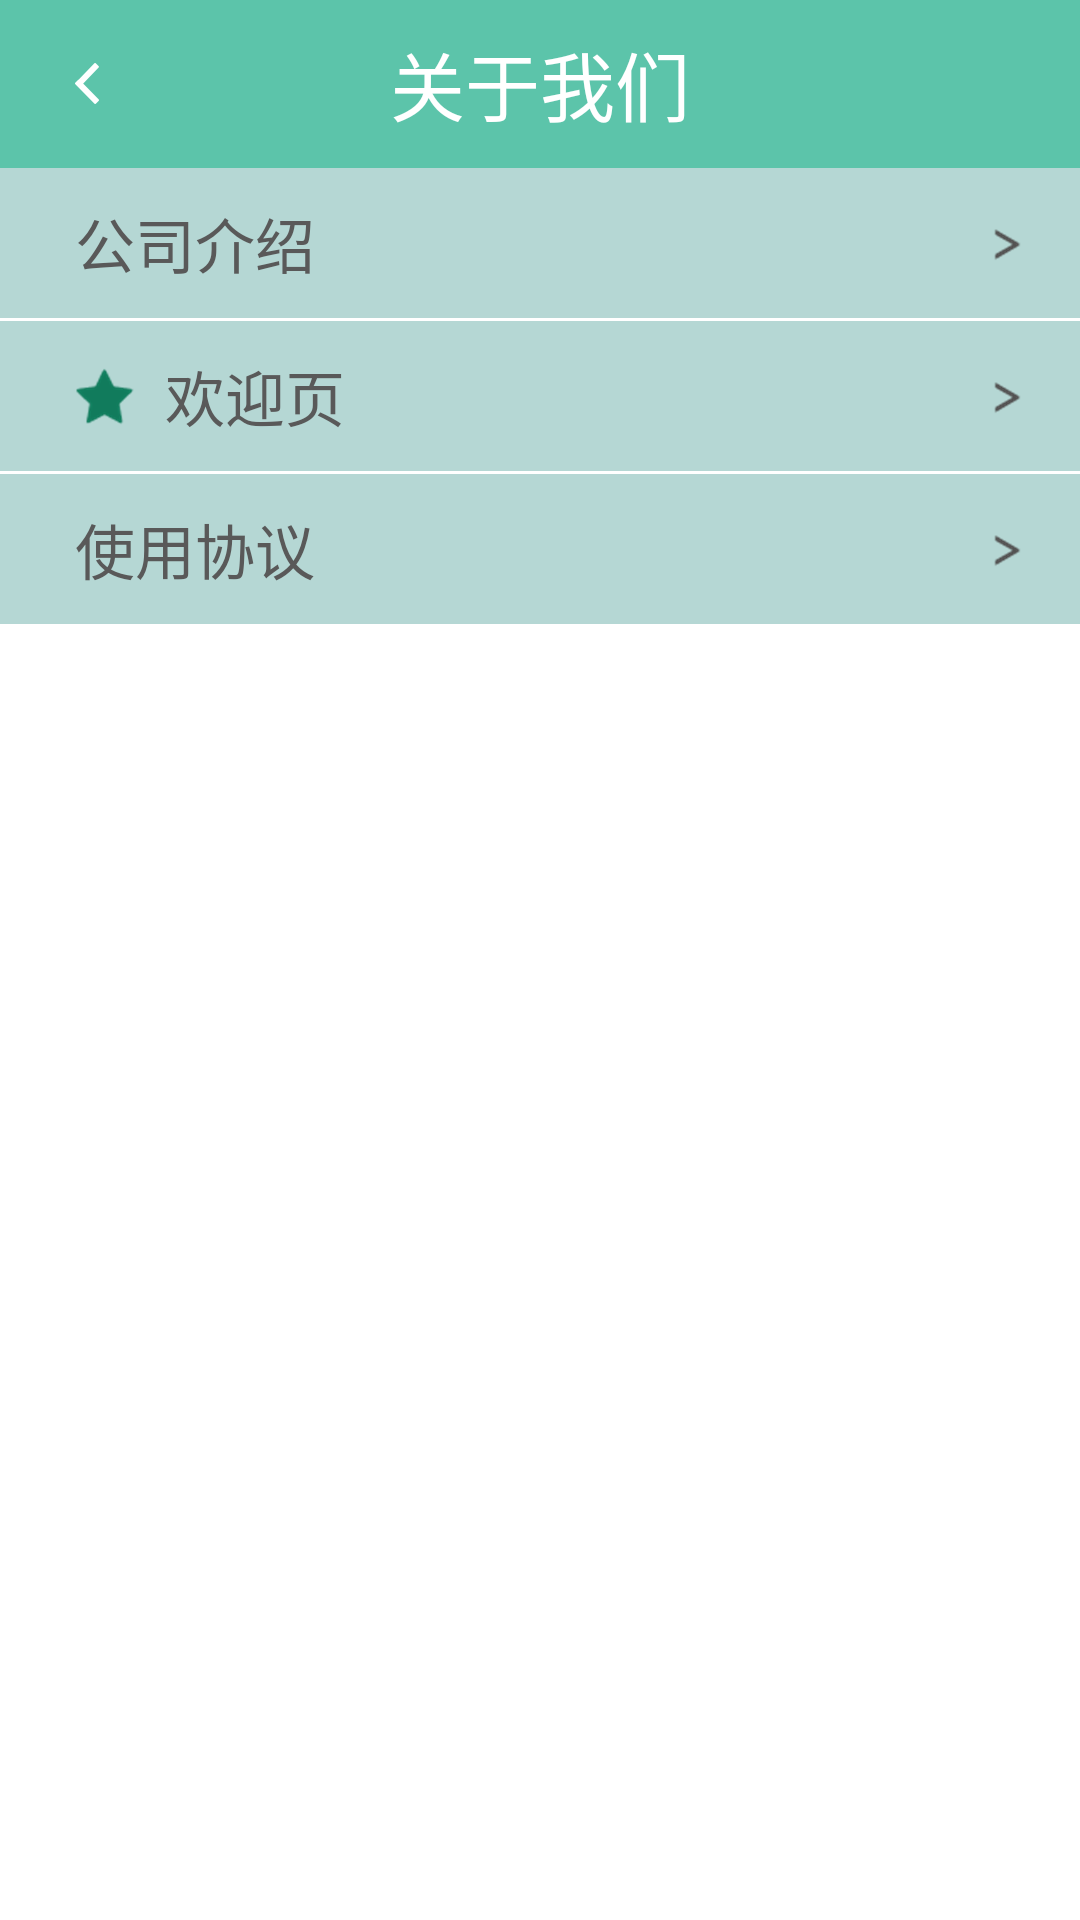

Screen size 1080*1920. Icon name, then its center in pixels as (x=x, y=y):
fanhui: (x=87, y=83)
xiayiye: (x=1007, y=244), (x=1007, y=397), (x=1007, y=550)
